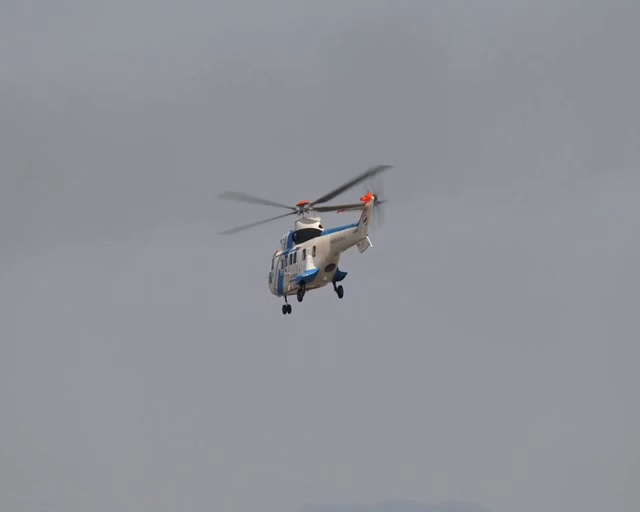HELICOPTER: (215, 162, 394, 315)
